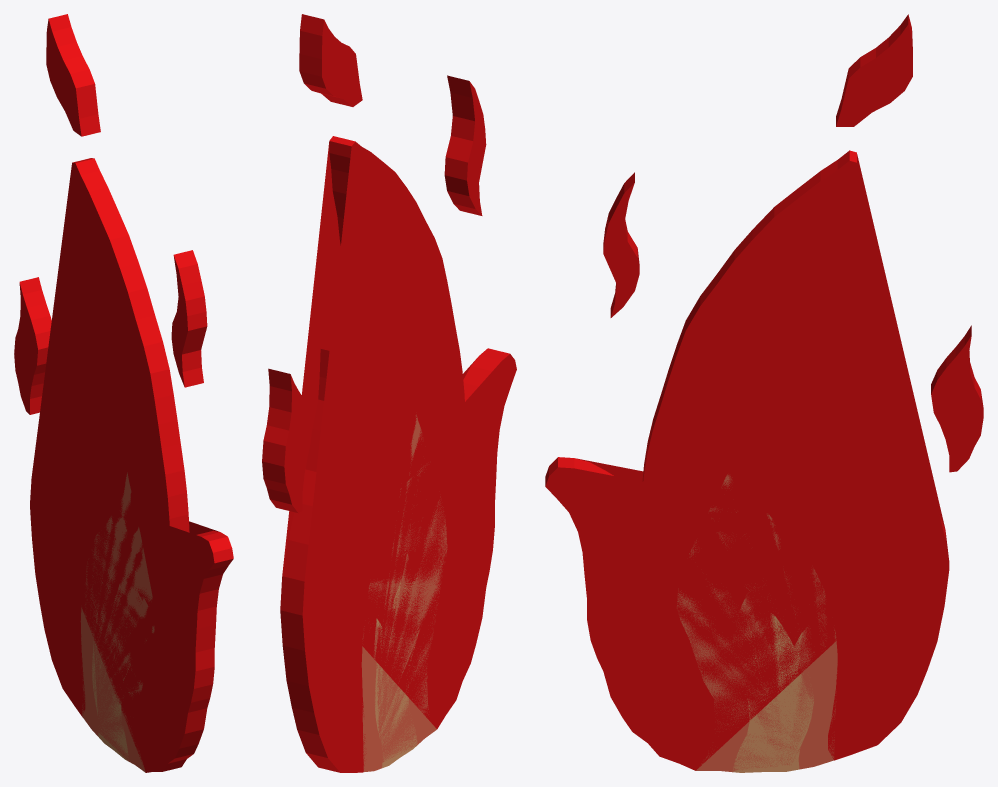
Rendered from Fogo.fbx.
3 views of the same model, side by side, from view 1: azimuth 30°, elevation 25°; view 2: azimuth 150°, elevation 25°; view 3: azimuth 270°, elevation 25° (orthographic). The views are drawn at different scales.
Visible parts, largest first — view 1: Fogo; view 2: Fogo; view 3: Fogo.
Boxes of the visible parts, x1,y1,x2,y2 form: Fogo: (14, 14, 233, 772); Fogo: (262, 14, 516, 772); Fogo: (545, 14, 983, 772).
Bounding box in the file's own units: 1 × 33.93 × 18.
